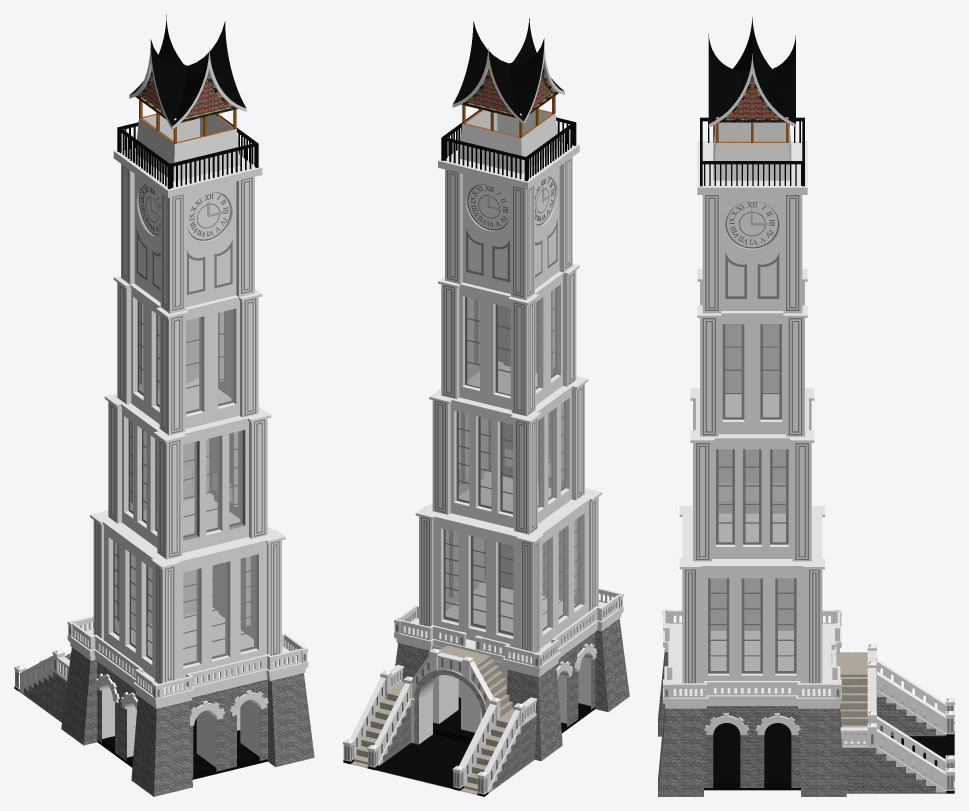
The model's file is jam-gadang.gltf.
The picture shows the model from 3 angles, left to right: view 1: azimuth 30°, elevation 25°; view 2: azimuth 150°, elevation 25°; view 3: azimuth 270°, elevation 25°; orthographic projection. The views are drawn at different scales.
Visible parts, largest first — view 1: Material3 (×8), Material2 (×5); view 2: Material3 (×9), Material2 (×7); view 3: Material3 (×7), Material2 (×6).
Part boxes in pixels (x1=…): Material3 (×8): x1=14, y1=42, x2=314, y2=796; Material2 (×5): x1=14, y1=14, x2=283, y2=779; Material3 (×9): x1=343, y1=45, x2=629, y2=794; Material2 (×7): x1=343, y1=18, x2=606, y2=796; Material3 (×7): x1=658, y1=54, x2=954, y2=796; Material2 (×6): x1=666, y1=17, x2=954, y2=793.
Bounding box in the file's own units: 276 × 1169 × 434.
19 materials, 6 textured.
